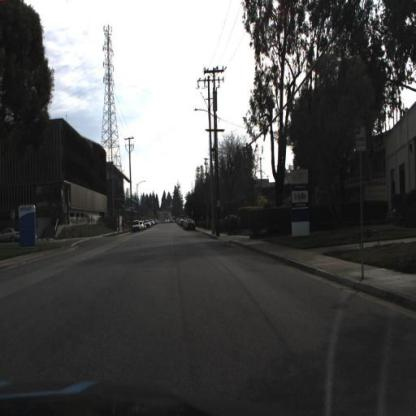car: (185, 219, 198, 235), (132, 220, 143, 234)
